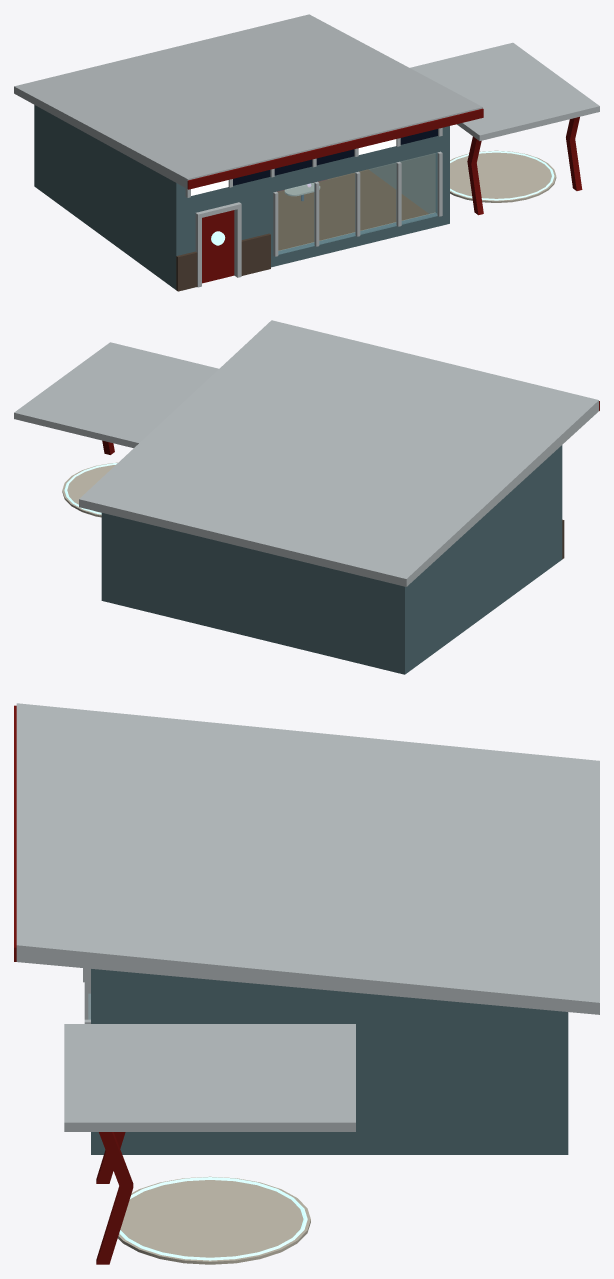
The model's file is bungalow_wedge.glb.
3 views of the same model, one above another, from view 1: azimuth 30°, elevation 25°; view 2: azimuth 150°, elevation 25°; view 3: azimuth 270°, elevation 25° (orthographic). The views are drawn at different scales.
Parts seen in each view (by area): view 1: bungalow_wedge, door_home_leaf; view 2: bungalow_wedge; view 3: bungalow_wedge.
Part boxes in pixels (x1,y1,x2,y2): bungalow_wedge: [14, 14, 599, 291]; door_home_leaf: [202, 210, 234, 283]; bungalow_wedge: [14, 320, 599, 674]; bungalow_wedge: [14, 703, 599, 1264].
Size of the model in its own units: 15.6 by 4.55 by 11.05.
